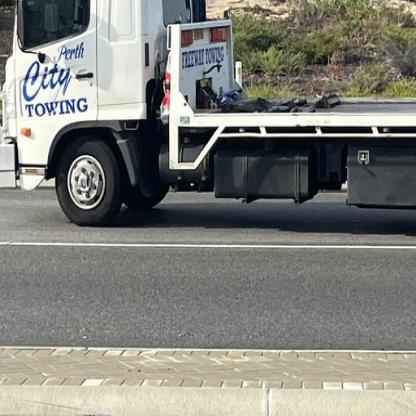Tire: (56, 136, 123, 228)
